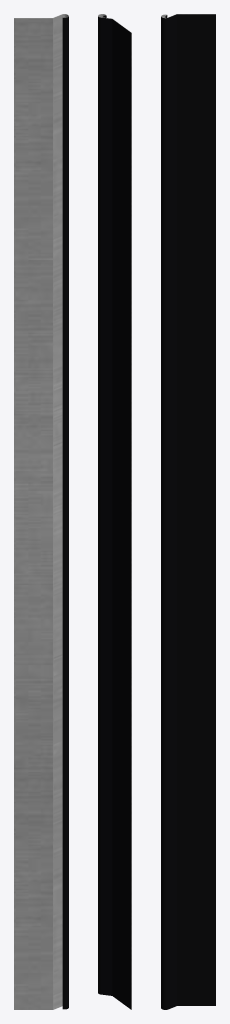
File: bande de rive astragale.gltf
The picture shows the model from 3 angles, left to right: view 1: azimuth 90°, elevation 25°; view 2: azimuth 210°, elevation 25°; view 3: azimuth 270°, elevation 25°; orthographic projection.
Parts seen in each view (by area): view 1: bnde de rive astragale; view 2: bnde de rive astragale; view 3: bnde de rive astragale.
Part boxes in pixels (left/top/right/bottom): bnde de rive astragale: left=14, top=14, right=68, bottom=1009; bnde de rive astragale: left=98, top=14, right=131, bottom=1009; bnde de rive astragale: left=161, top=14, right=215, bottom=1009.
Size of the model in its own units: 0.0182 by 2 by 0.1.
2 materials, 1 textured.
